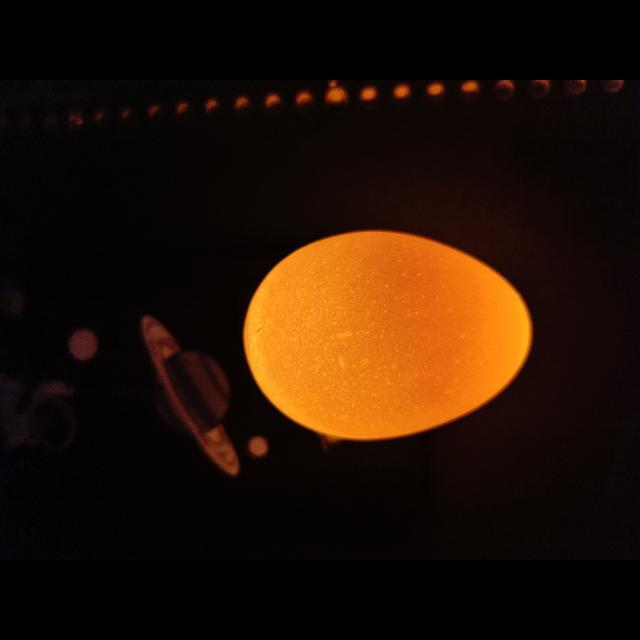AA - Premium: (244, 231, 533, 440)
